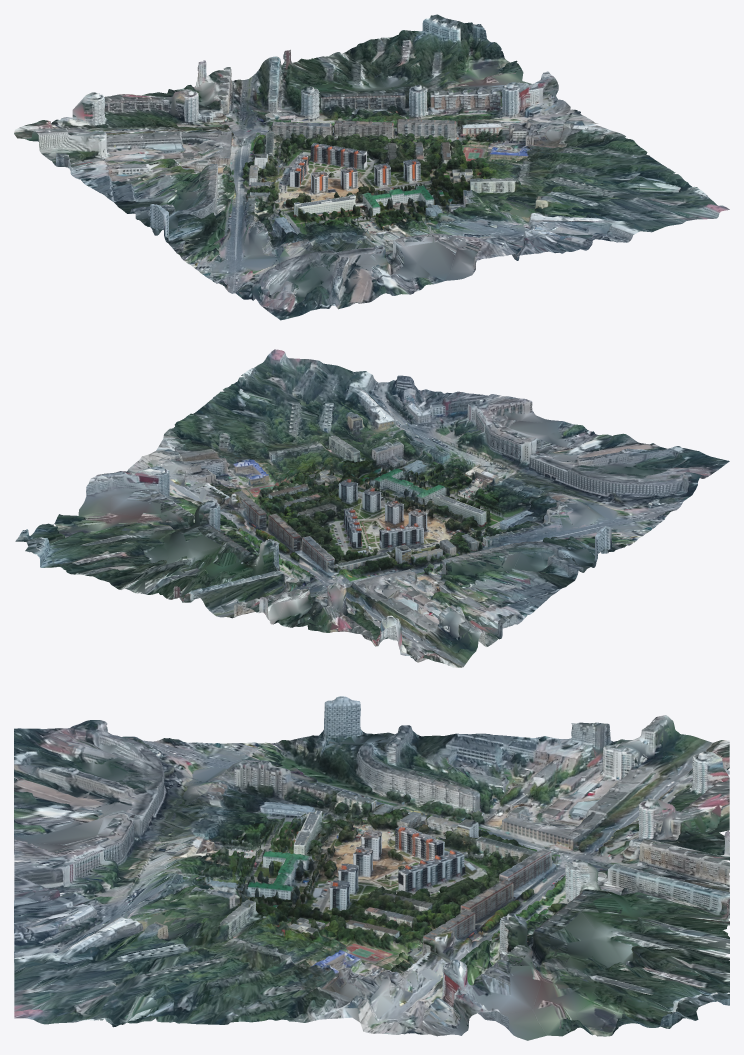
Rendered from 3d_scan_of_a_russian_city_quarter.glb.
The picture shows the model from 3 angles, top to bottom: view 1: azimuth 30°, elevation 25°; view 2: azimuth 150°, elevation 25°; view 3: azimuth 270°, elevation 25°; orthographic projection. The views are drawn at different scales.
Visible parts, largest first — view 1: Model.001; view 2: Model.001; view 3: Model.001.
Part boxes in pixels (left/top/right/bottom): Model.001: left=14, top=14, right=729, bottom=320; Model.001: left=15, top=349, right=729, bottom=667; Model.001: left=14, top=696, right=729, bottom=1040.
Size of the model in its own units: 78.51 by 7.07 by 81.57.
1 material, 1 textured.
